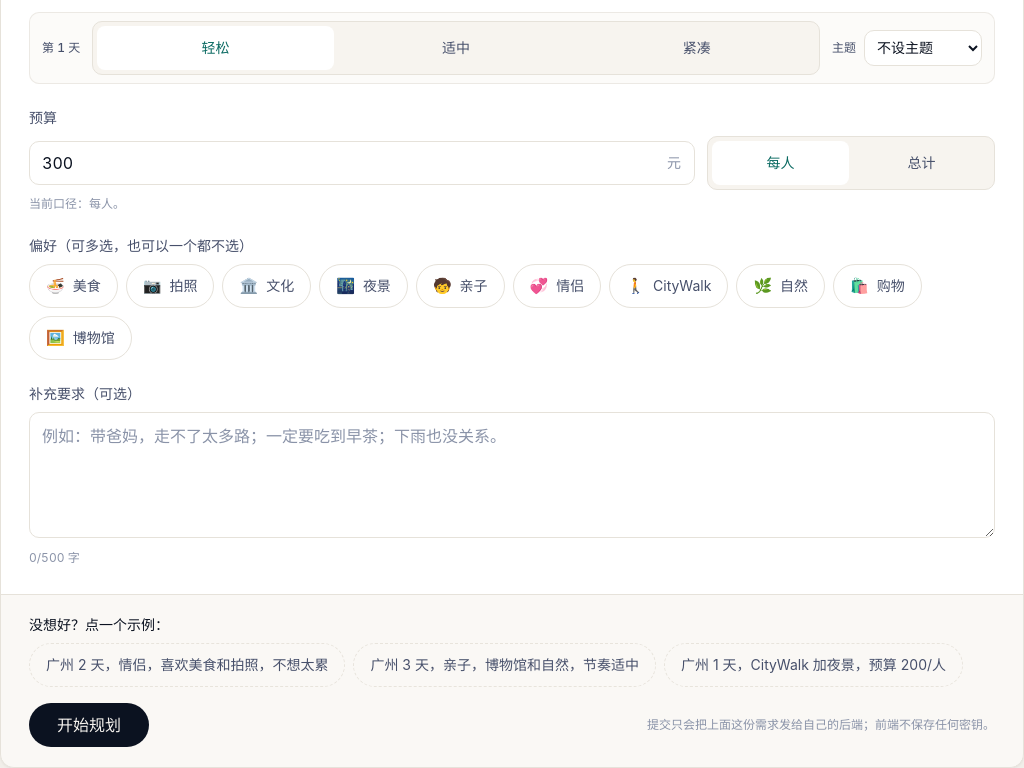
Scenario: PlannerForm 后端未实现时的处理 › 未知异常也会给出可见反馈，不会静默失败
(page scrolled)
Click the button "开始规划" at (89,725), box top-left (29, 703), bottom-right (149, 747)
(page scrolled)
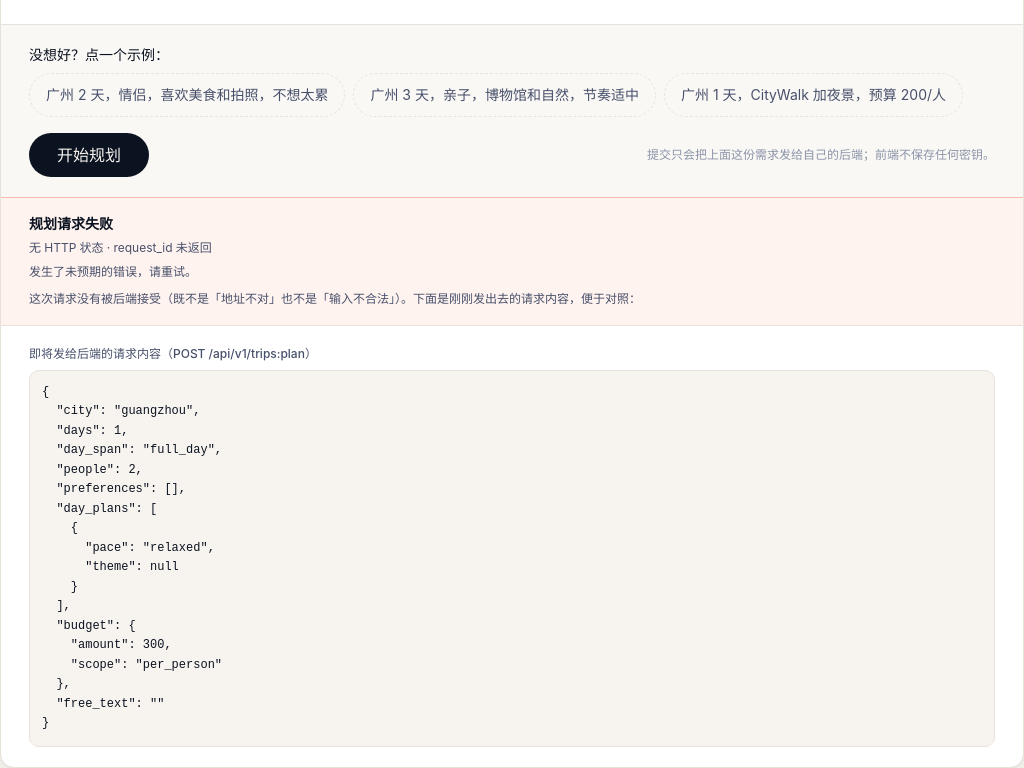
Expected: the text "规划请求失败" is shown, top-left (29, 215), bottom-right (113, 232)
Expected: the button with test id "plan-payload" is shown, top-left (29, 370), bottom-right (995, 747)
